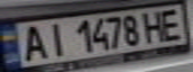1: (69, 17, 93, 53)
4: (90, 16, 112, 52)
7: (106, 14, 127, 48)
8: (121, 11, 145, 47)
A: (15, 22, 51, 61)
E: (154, 6, 190, 42)
H: (139, 8, 169, 43)
I: (42, 20, 69, 57)
